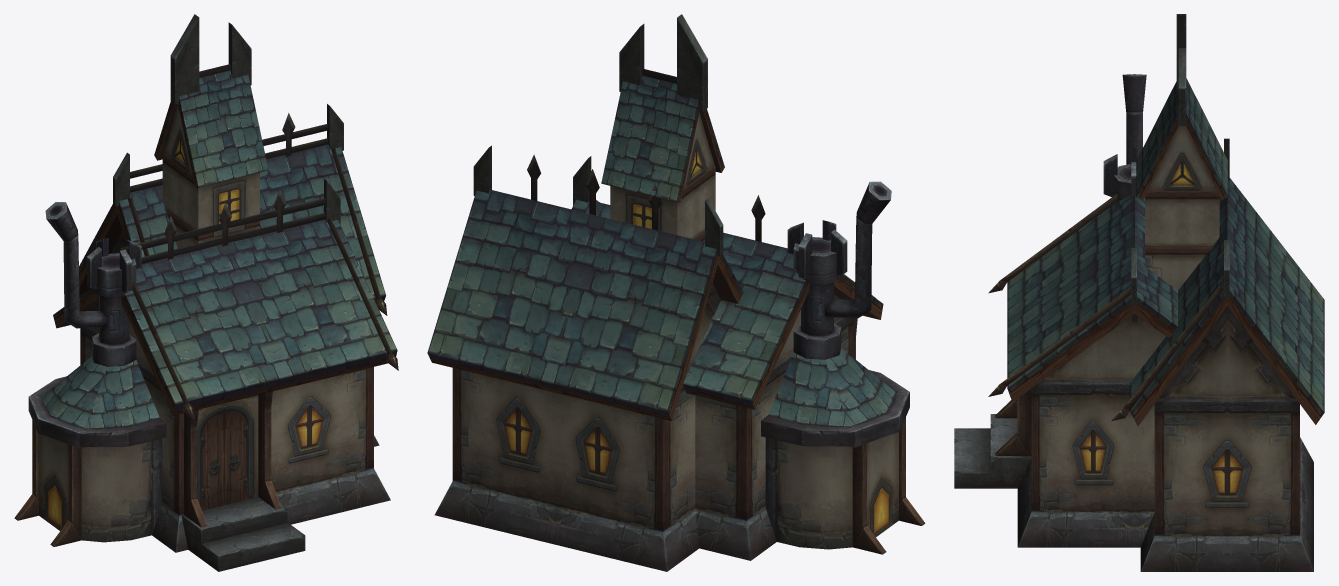
Rendered from building_underground_minfang04.FBX.
The picture shows the model from 3 angles, left to right: view 1: azimuth 30°, elevation 25°; view 2: azimuth 150°, elevation 25°; view 3: azimuth 270°, elevation 25°; orthographic projection. The views are drawn at different scales.
Parts seen in each view (by area): view 1: building_underground_minfang04; view 2: building_underground_minfang04; view 3: building_underground_minfang04.
Part boxes in pixels (bbox=[...]): building_underground_minfang04: bbox=[14, 14, 398, 571]; building_underground_minfang04: bbox=[427, 14, 925, 571]; building_underground_minfang04: bbox=[954, 14, 1324, 571].
Size of the model in its own units: 10.29 by 12.69 by 8.96.
